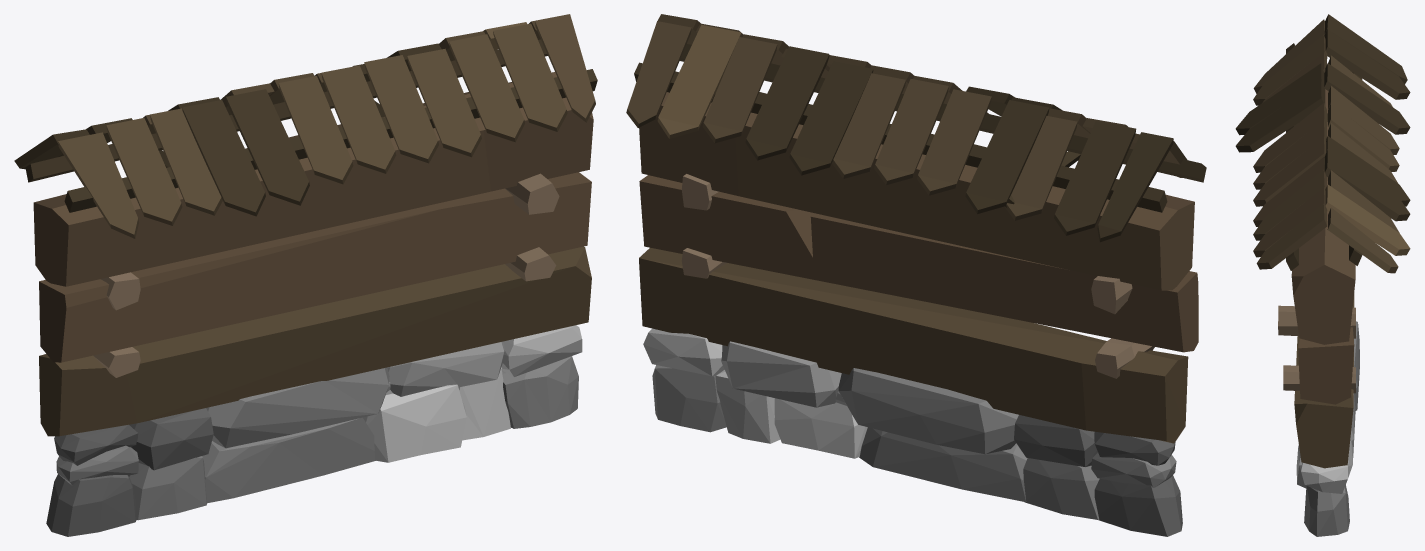
The model's file is EA03_Fence_Wall_01b.fbx.
The picture shows the model from 3 angles, left to right: view 1: azimuth 30°, elevation 25°; view 2: azimuth 150°, elevation 25°; view 3: azimuth 270°, elevation 25°; orthographic projection. The views are drawn at different scales.
Parts seen in each view (by area): view 1: EA03_Fence_Wall_01b_LOD0; view 2: EA03_Fence_Wall_01b_LOD0; view 3: EA03_Fence_Wall_01b_LOD0.
Part boxes in pixels (<box>): EA03_Fence_Wall_01b_LOD0: <box>14,14,597,536</box>; EA03_Fence_Wall_01b_LOD0: <box>626,14,1206,536</box>; EA03_Fence_Wall_01b_LOD0: <box>1235,14,1410,536</box>.
Size of what is drawn, in the model's own units: 5 by 3.55 by 1.76.
